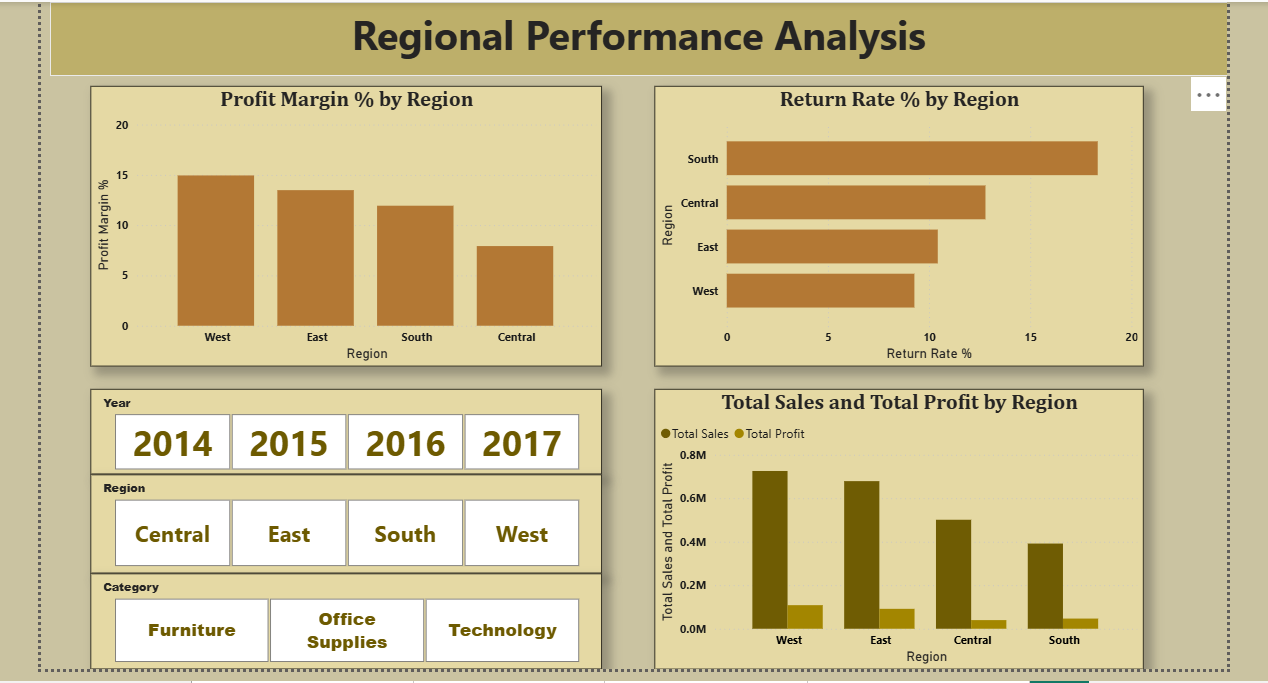

The page's visual inventory and layout, read from the dashboard file:
{"tool":"powerbi","page":{"name":"Regional_analysis","canvas":[1280,720],"ordinal":2},"visuals":[{"type":"textbox","box":[9.7,0,1271.1,79.3],"z":0},{"type":"clusteredColumnChart","fields":{"Category":["Orders.Region"],"Y":["Orders.Total Sales","Orders.Total Profit"]},"box":[662.3,417.8,527.9,302.8],"z":1000},{"type":"clusteredBarChart","fields":{"Category":["Orders.Region"],"Y":["Orders.Return Rate %"]},"box":[662.3,90.7,527.9,302.8],"z":2000},{"type":"clusteredColumnChart","fields":{"Category":["Orders.Region"],"Y":["Orders.Profit Margin %"]},"box":[53.4,90.7,552.2,302.8],"z":3000},{"type":"slicer","fields":{"Values":["Orders.Order Date.Variation.Date Hierarchy.Year"]},"box":[53.4,417.8,552.2,92.3],"z":3001},{"type":"slicer","fields":{"Values":["Orders.Region"]},"box":[53.4,510.1,552.2,106.9],"z":3002},{"type":"slicer","fields":{"Values":["Orders.Category"]},"box":[53.4,616.9,552.2,103.6],"z":3003}]}

Visuals, with their boxes in screenshot pixels (x1, y1, x2, y2):
textbox: <box>42,0,1232,71</box>
clusteredColumnChart - Orders.Region x Orders.Total Sales: <box>653,388,1147,671</box>
clusteredBarChart - Orders.Region x Orders.Return Rate %: <box>653,82,1147,365</box>
clusteredColumnChart - Orders.Region x Orders.Profit Margin %: <box>83,82,600,365</box>
slicer - Orders.Order Date.Variation.Date Hierarchy.Year: <box>83,388,600,474</box>
slicer - Orders.Region: <box>83,474,600,574</box>
slicer - Orders.Category: <box>83,574,600,671</box>
